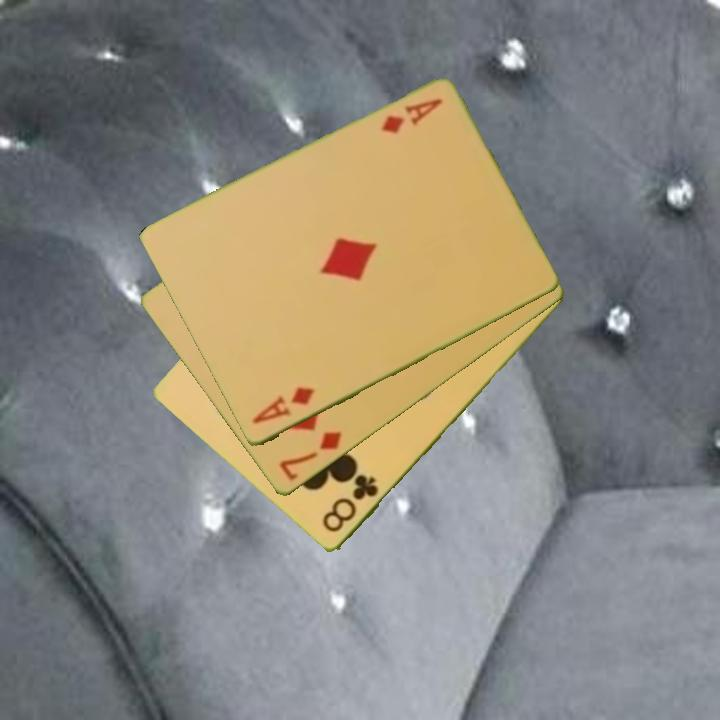7d: (275, 428, 345, 484)
8c: (318, 471, 382, 536)
Ad: (248, 384, 318, 428), (377, 95, 445, 138)
